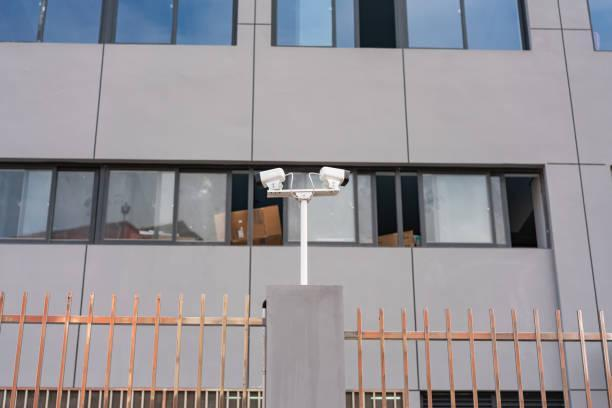camera: (304, 159, 358, 204), (249, 161, 297, 202)
